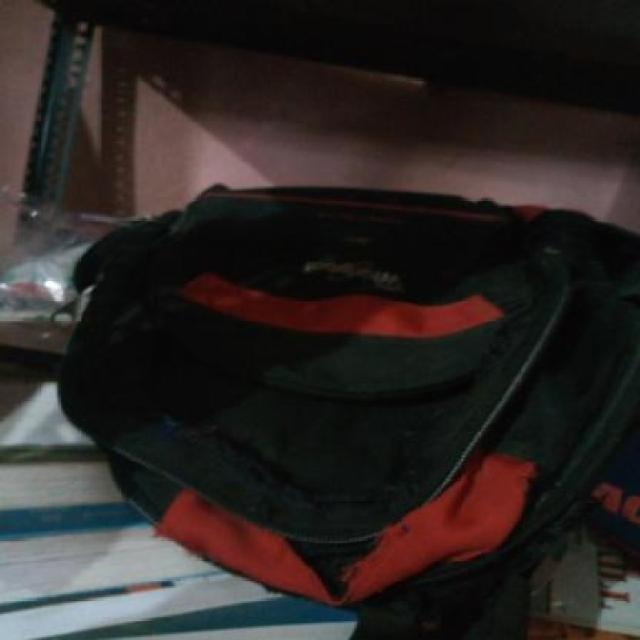backpack: (51, 178, 640, 640)
